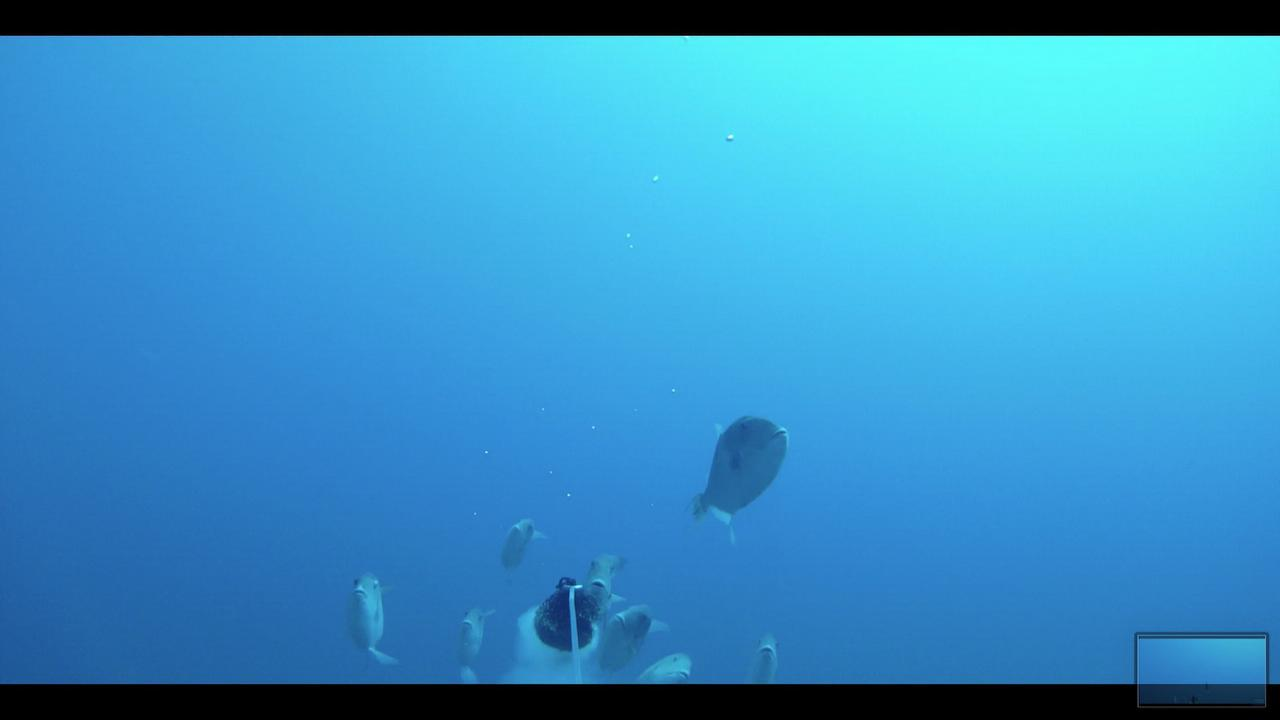balistes: (686, 411, 792, 543), (333, 566, 399, 676), (438, 599, 503, 685), (569, 543, 618, 622), (730, 625, 791, 685), (496, 512, 547, 580)
